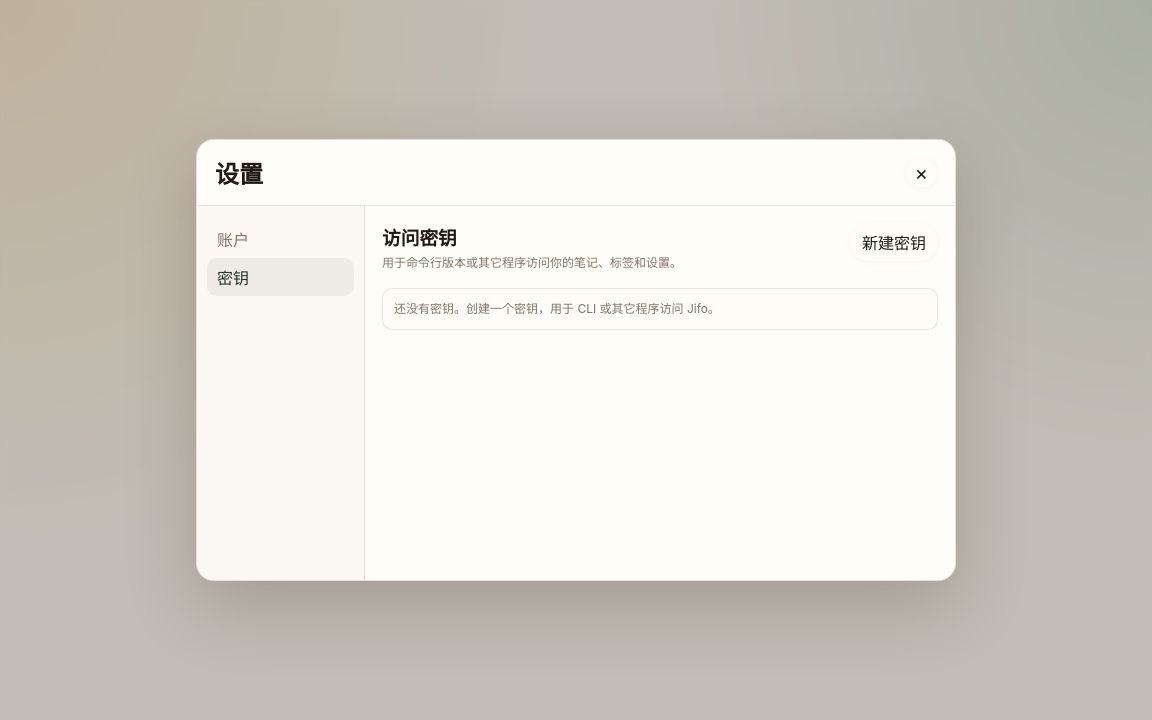
Test: SettingsModal › 新建密钥后只在结果框显示完整 secret
Click the button "新建密钥". click: (894, 242)
box: [850,223,938,261]
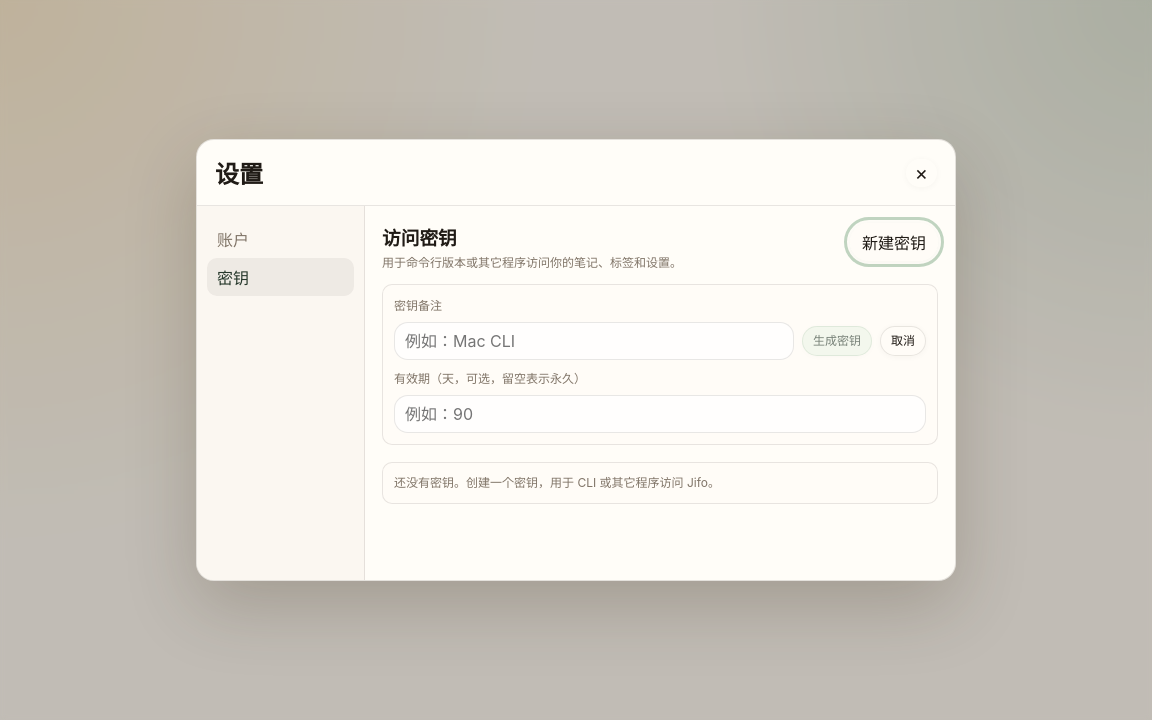
Type "CLI" into the field labelled "密钥备注". click: (594, 341)
box: [394,322,794,360]
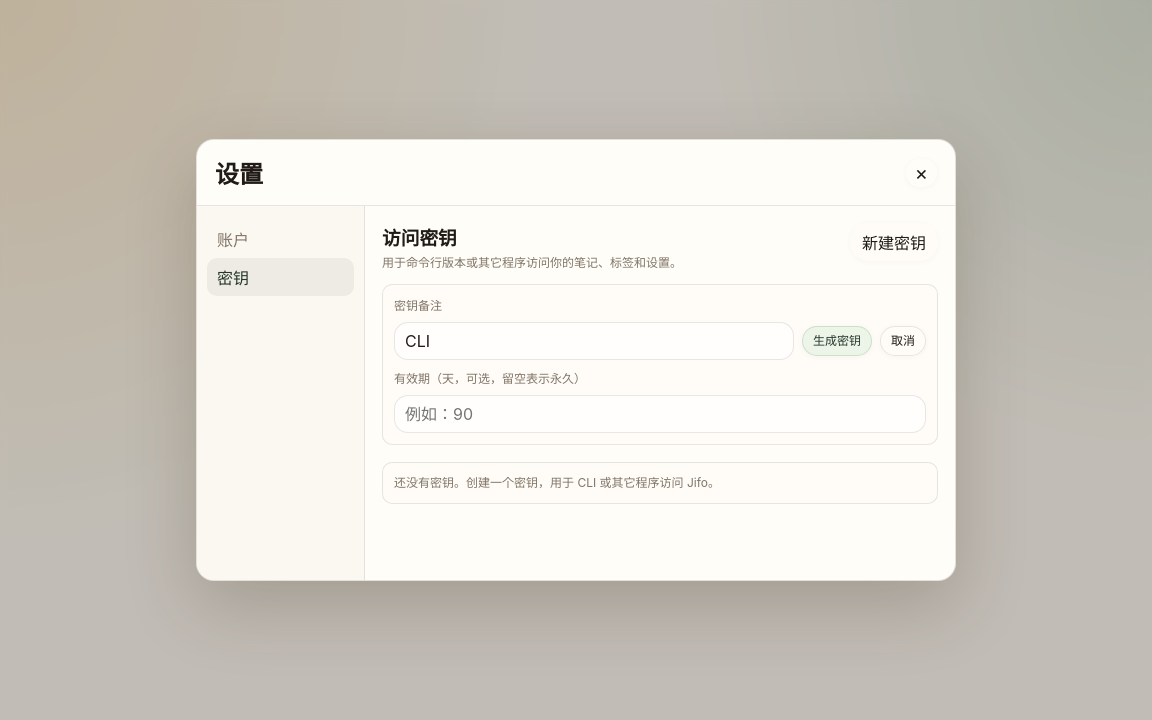
Click the button "生成密钥". click: (837, 341)
box: [802,326,872,356]
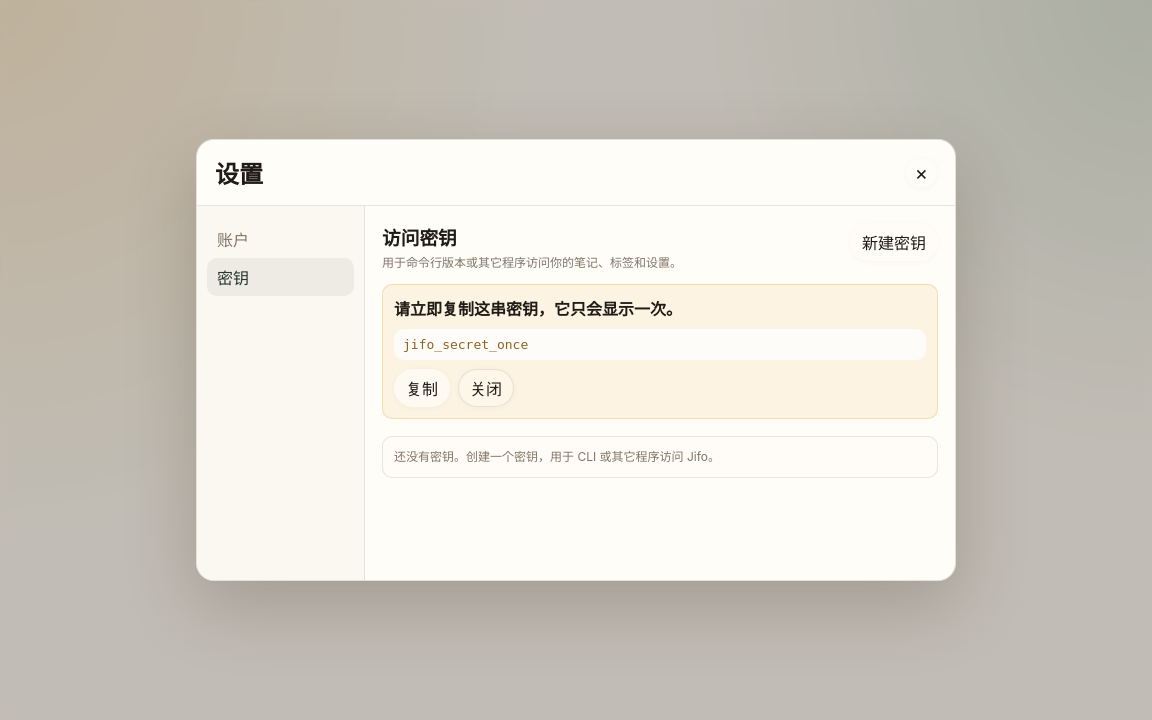
Check: the text "jifo_secret_once" is shown, box [394,329,926,360]
Click the button "关闭". click: (486, 388)
box: [458,369,514,407]
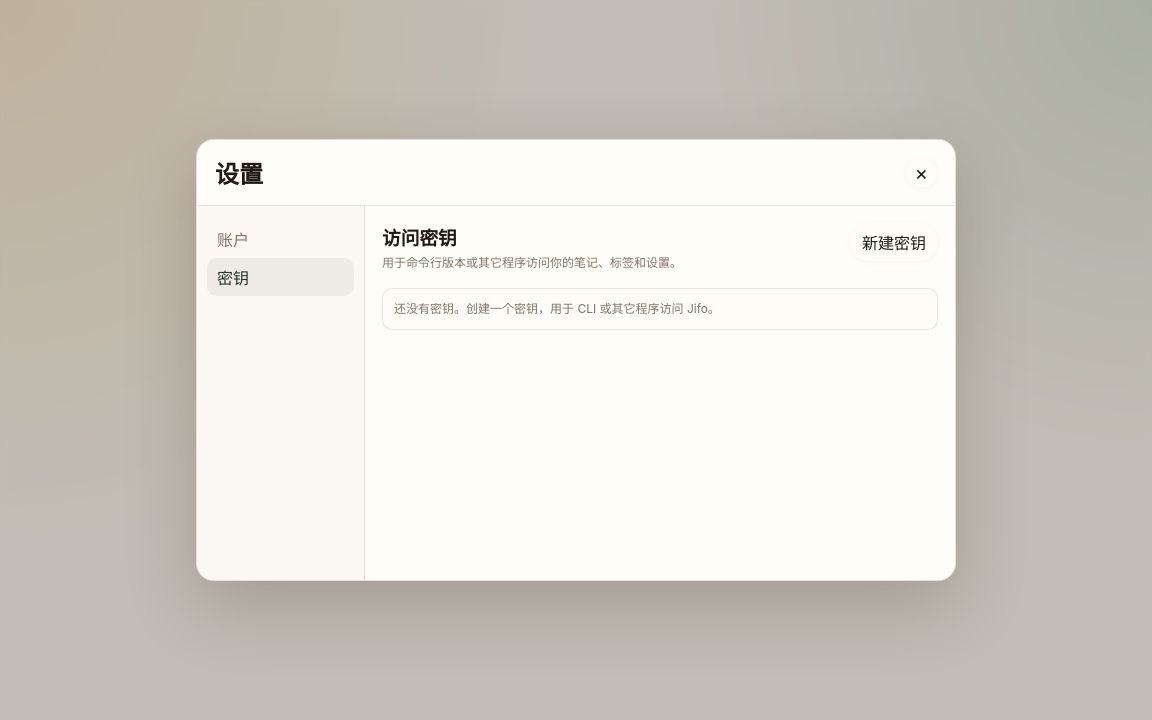
Check: the text "jifo_secret_once" is gone
